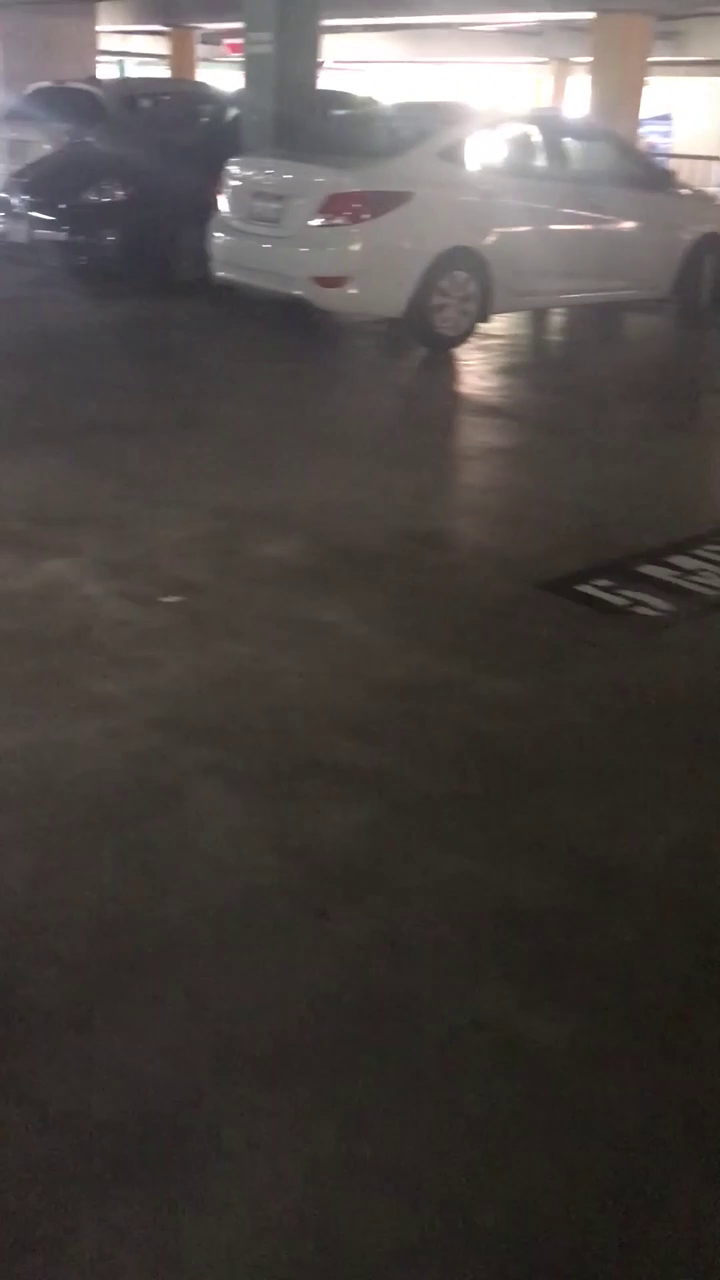car: (0, 85, 248, 290), (214, 146, 467, 318)
